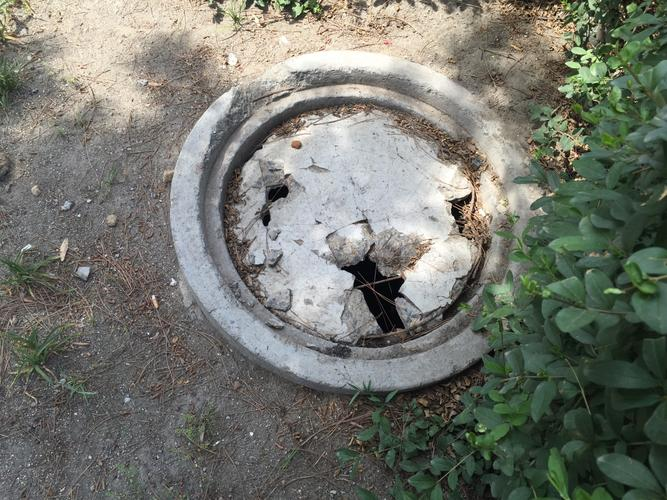broke: (158, 48, 568, 395)
